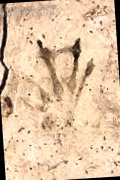fox: (54, 32, 116, 154), (14, 32, 60, 139)
